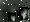person: (20, 8, 29, 21), (10, 10, 18, 21)
